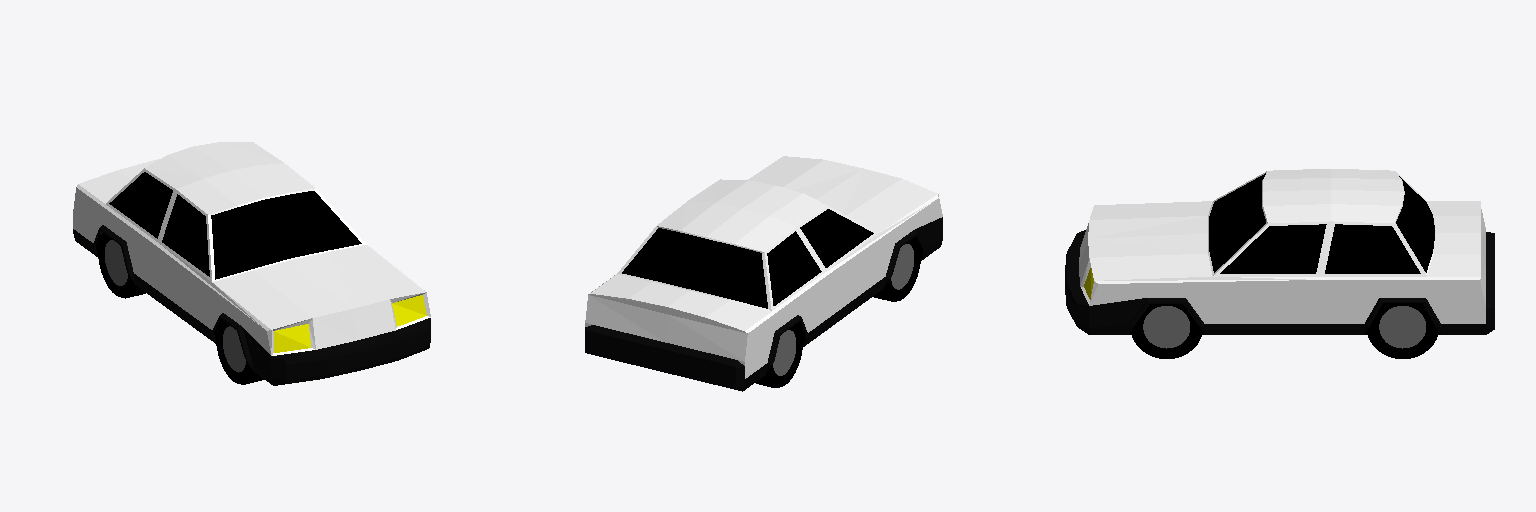
Rendered from cop_car.obj.
The picture shows the model from 3 angles: view 1: azimuth 30°, elevation 25°; view 2: azimuth 150°, elevation 25°; view 3: azimuth 270°, elevation 25°; orthographic projection.
Visible parts, largest first — view 1: Car_Cube; view 2: Car_Cube; view 3: Car_Cube.
Boxes of the visible parts, box(x1,y1,x2,y2) form: Car_Cube: box(73, 142, 430, 385); Car_Cube: box(585, 156, 942, 391); Car_Cube: box(1065, 169, 1494, 358).
Bounding box in the file's own units: 2.1 × 1.59 × 4.67.